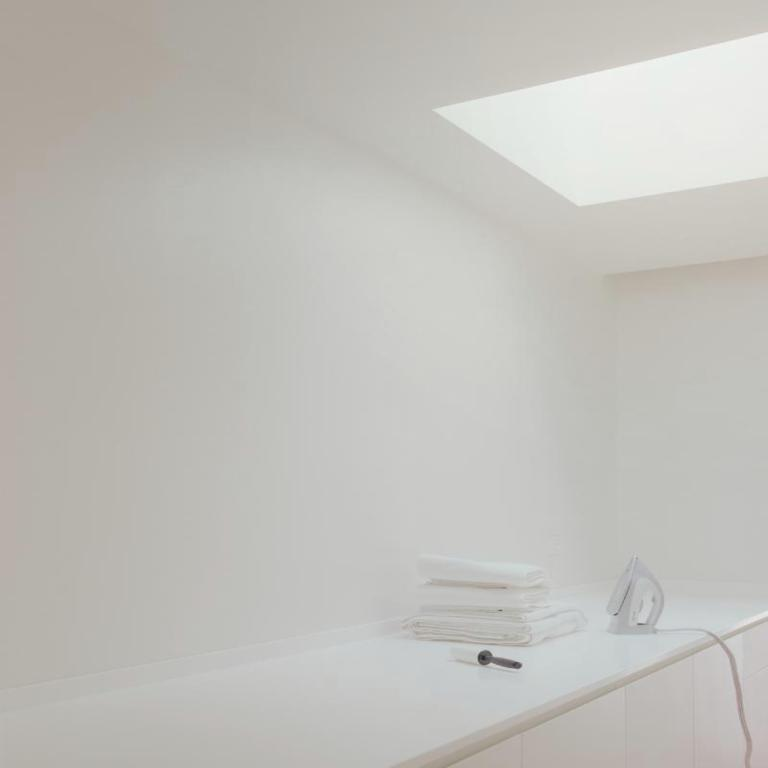white-walls: (24, 40, 577, 548)
